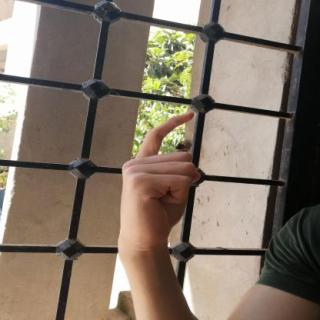RAA: (106, 104, 208, 256)
